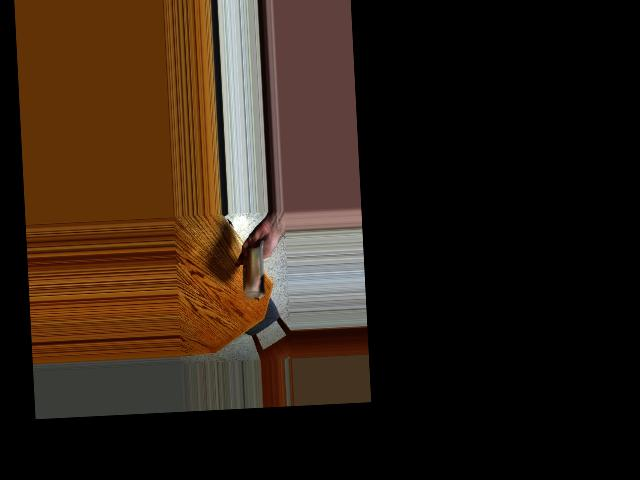cheese: (239, 243, 276, 296)
